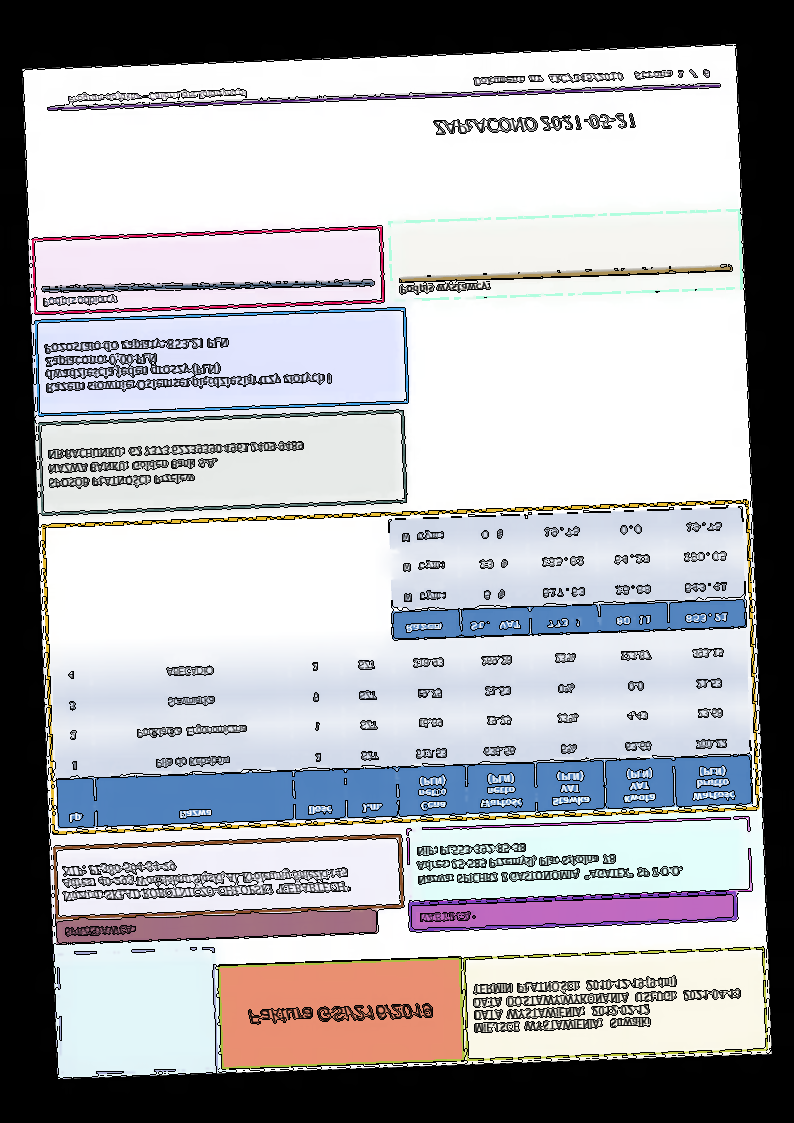Table: (50, 631, 753, 831), (387, 506, 747, 640)
TextBox: (43, 331, 334, 396), (471, 973, 743, 1037), (60, 853, 355, 903), (46, 439, 306, 491), (415, 837, 685, 886), (430, 109, 637, 138), (471, 66, 712, 88), (245, 1001, 434, 1027), (65, 85, 249, 105), (397, 279, 492, 297), (40, 292, 119, 310), (62, 923, 136, 939), (418, 910, 476, 924)
